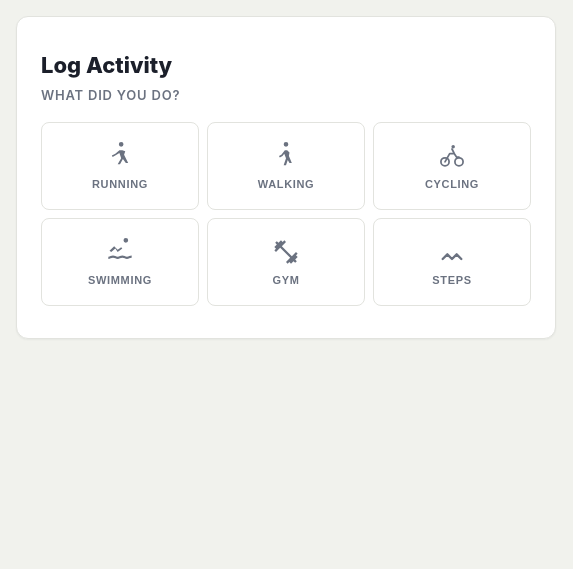
Test: LogActivity › shows distance input for running
Click the radio button labelled "Running": (120, 166) [41,122,199,210]
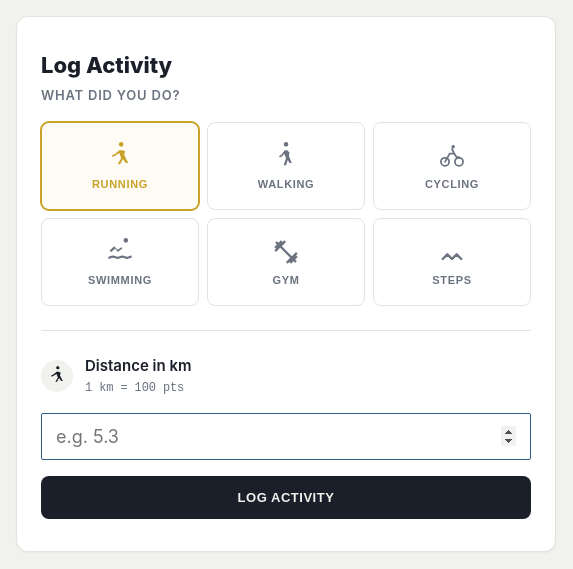
expect the number field with placeholder "e.g. 5.3" is shown: met, box [41,413,531,460]
